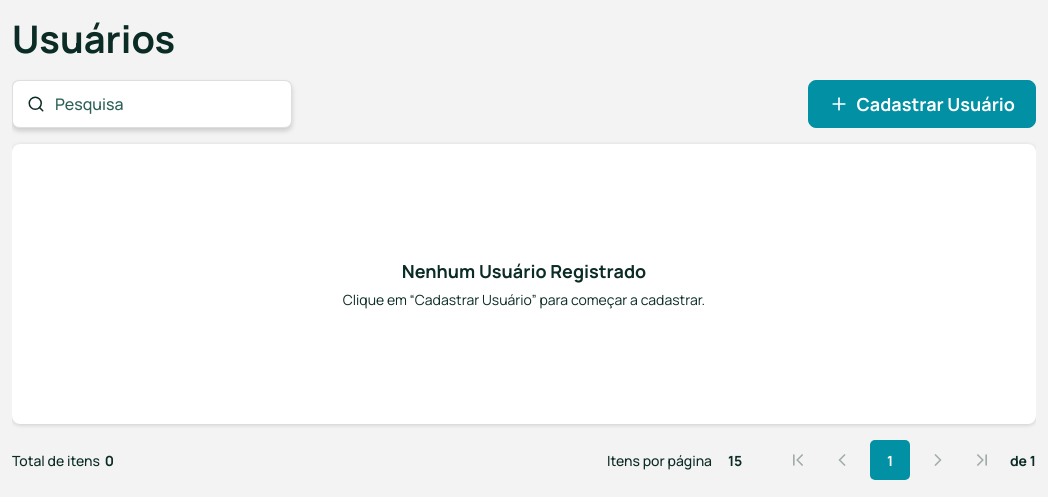
Test case: UsersPage › pesquisa com debounce e mostra quando não há resultados
This screenshot has width=1048, height=497.
Expected: the heading "Nenhum Usuário Registrado" is shown, [402,258,646,285]
In the search field with placeholder "Pesquisa": [165, 104] box [53,91,277,117], type "maria"
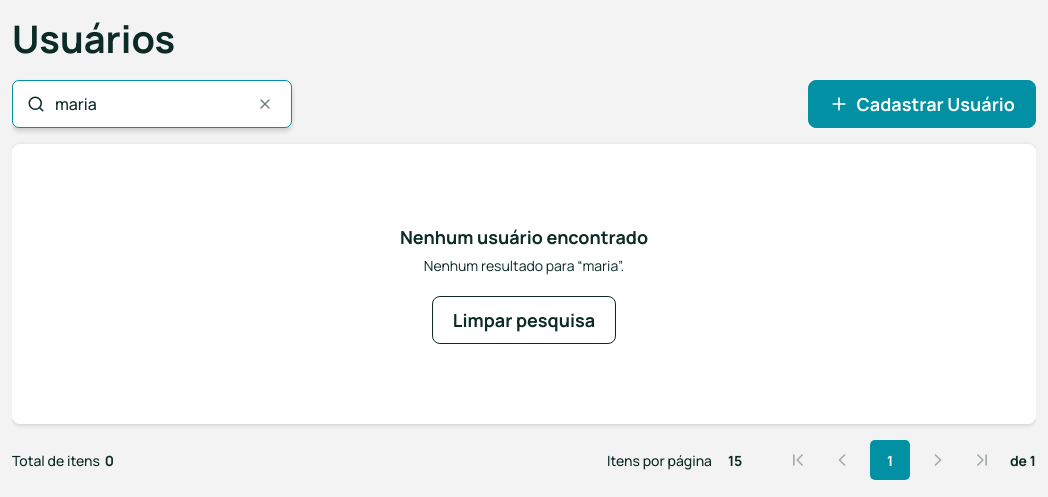
Expected: the heading "Nenhum usuário encontrado" is shown, [400,224,648,251]
Expected: the text "Nenhum resultado para “maria”." is shown, [424,255,624,276]
